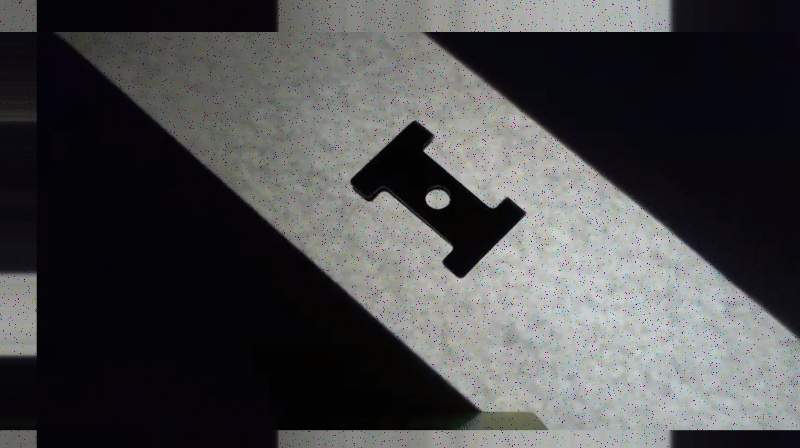O002: (345, 117, 529, 278)
